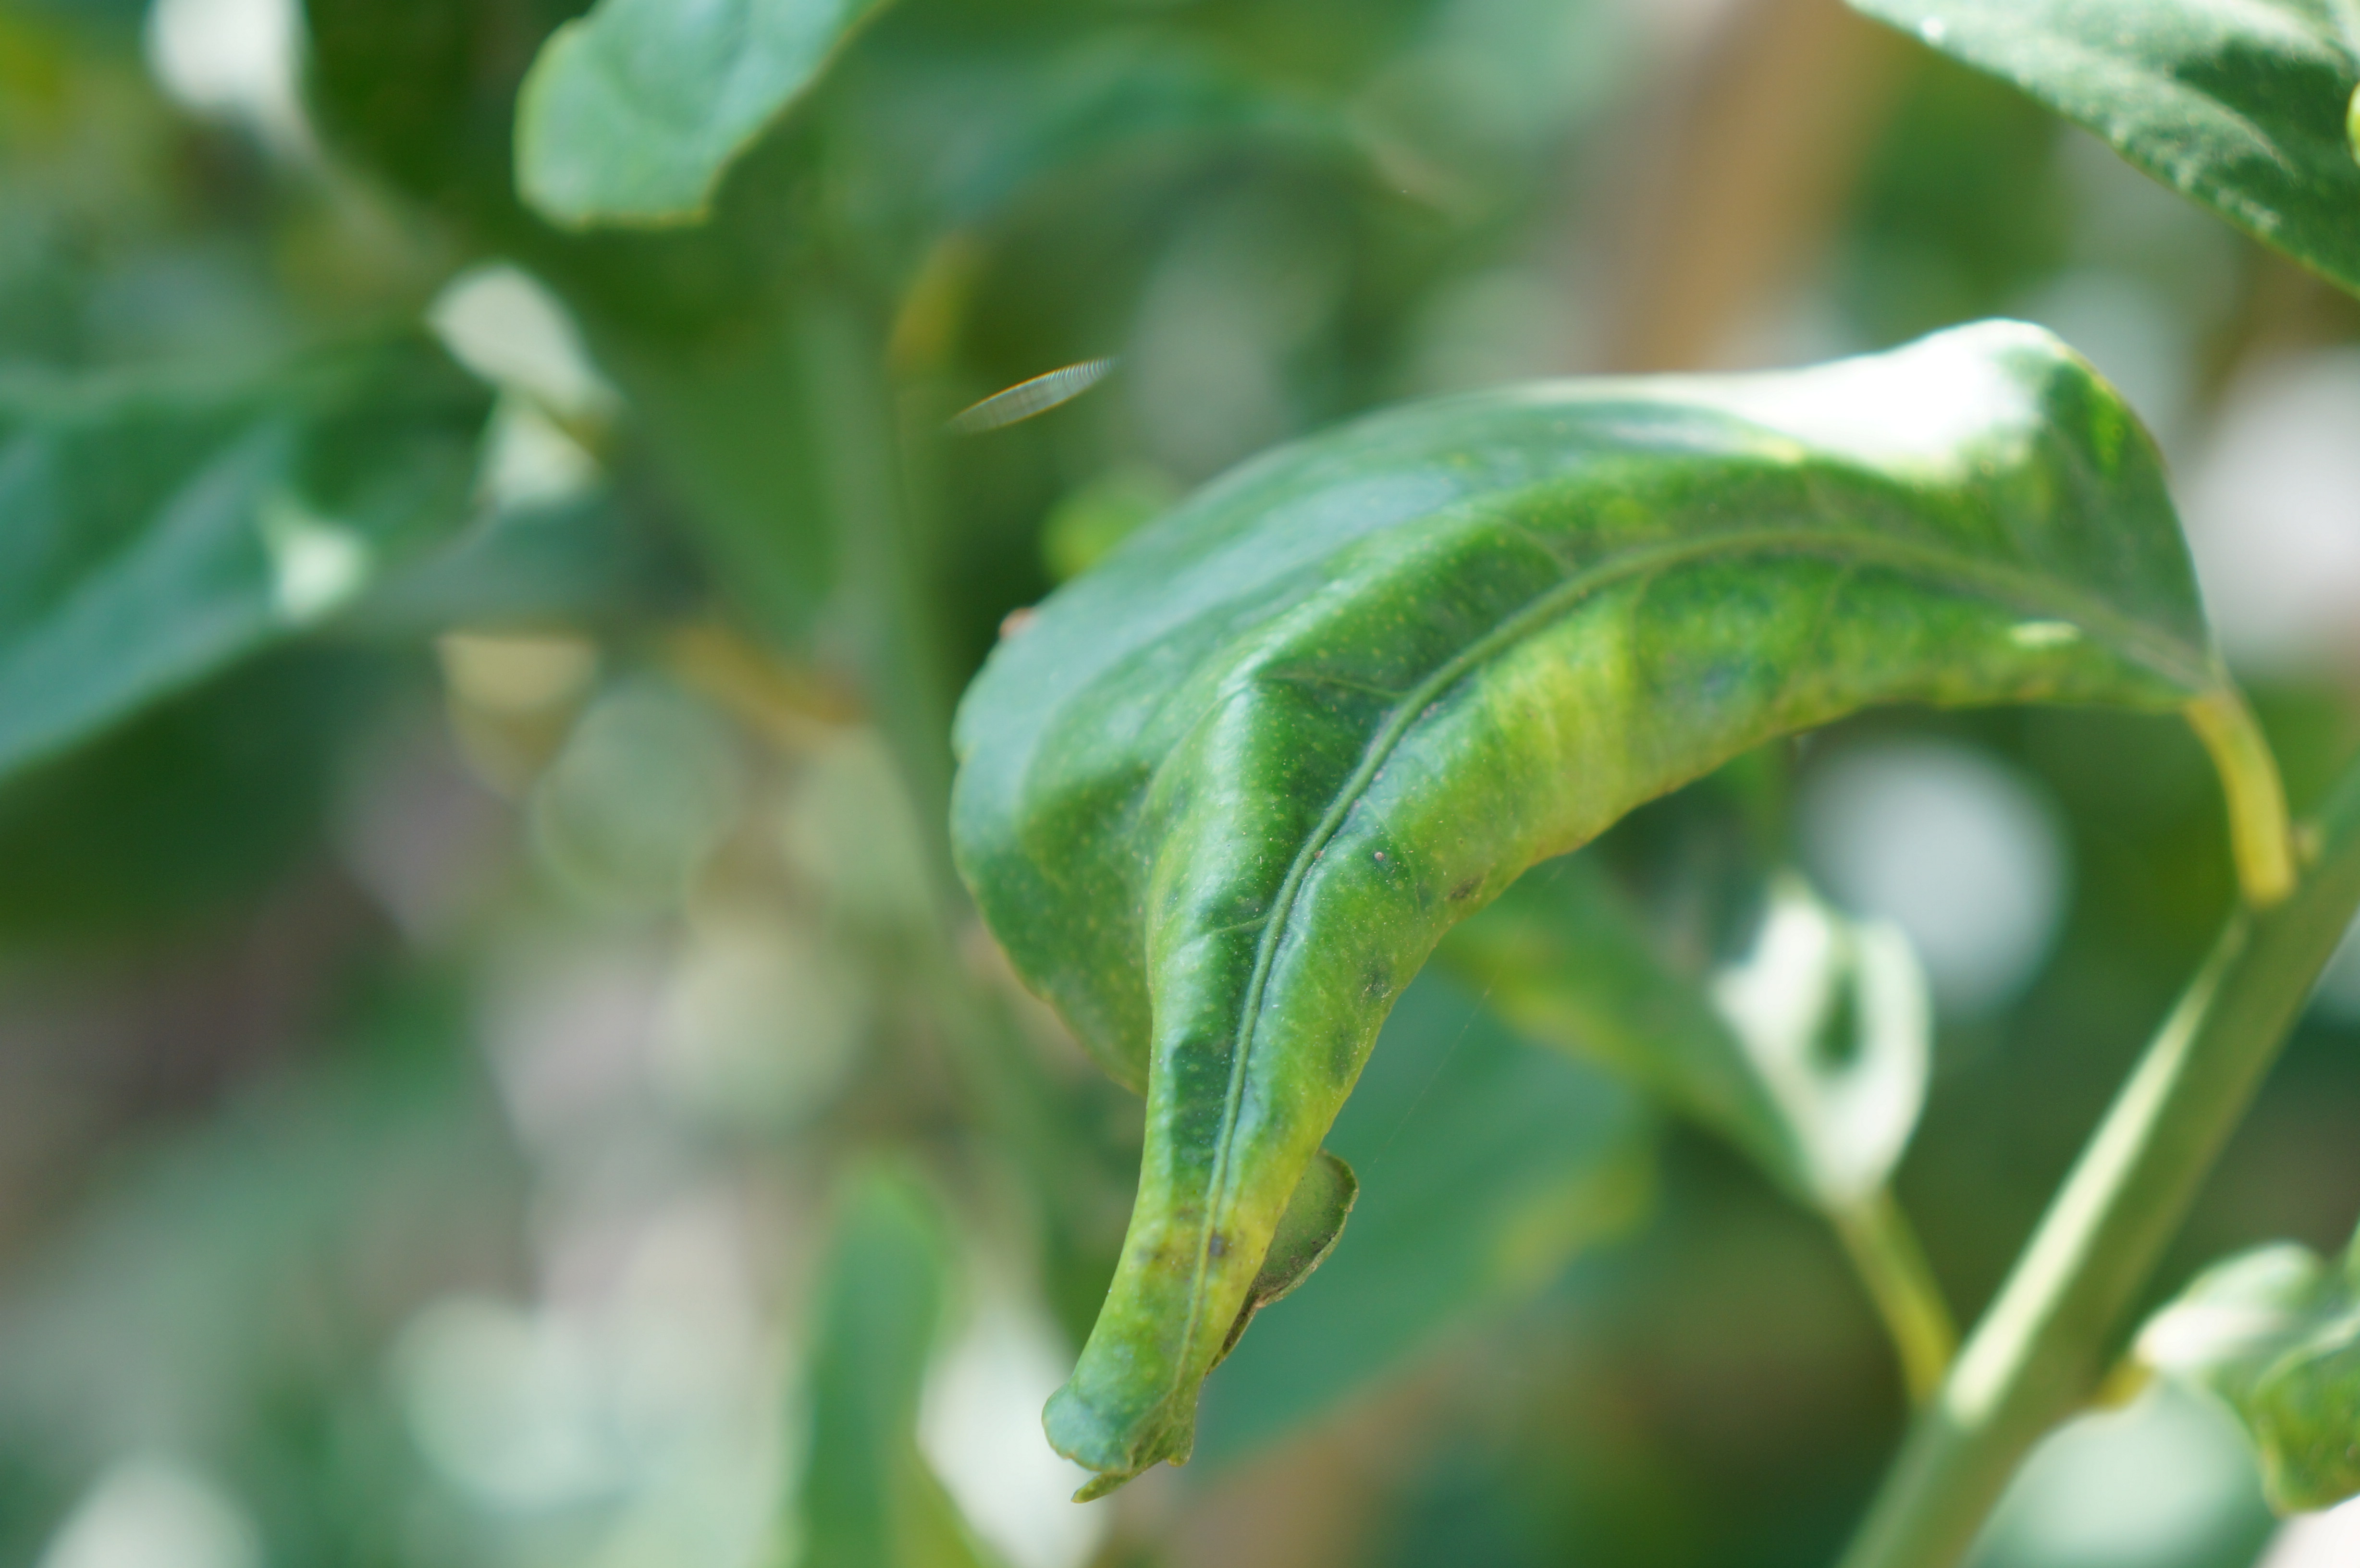damage: (920, 301, 2297, 1528)
